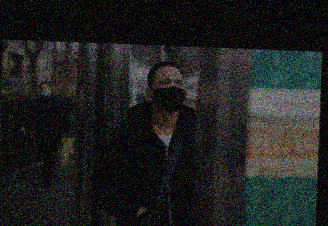with_mask: (153, 75, 186, 112), (40, 85, 52, 98)
